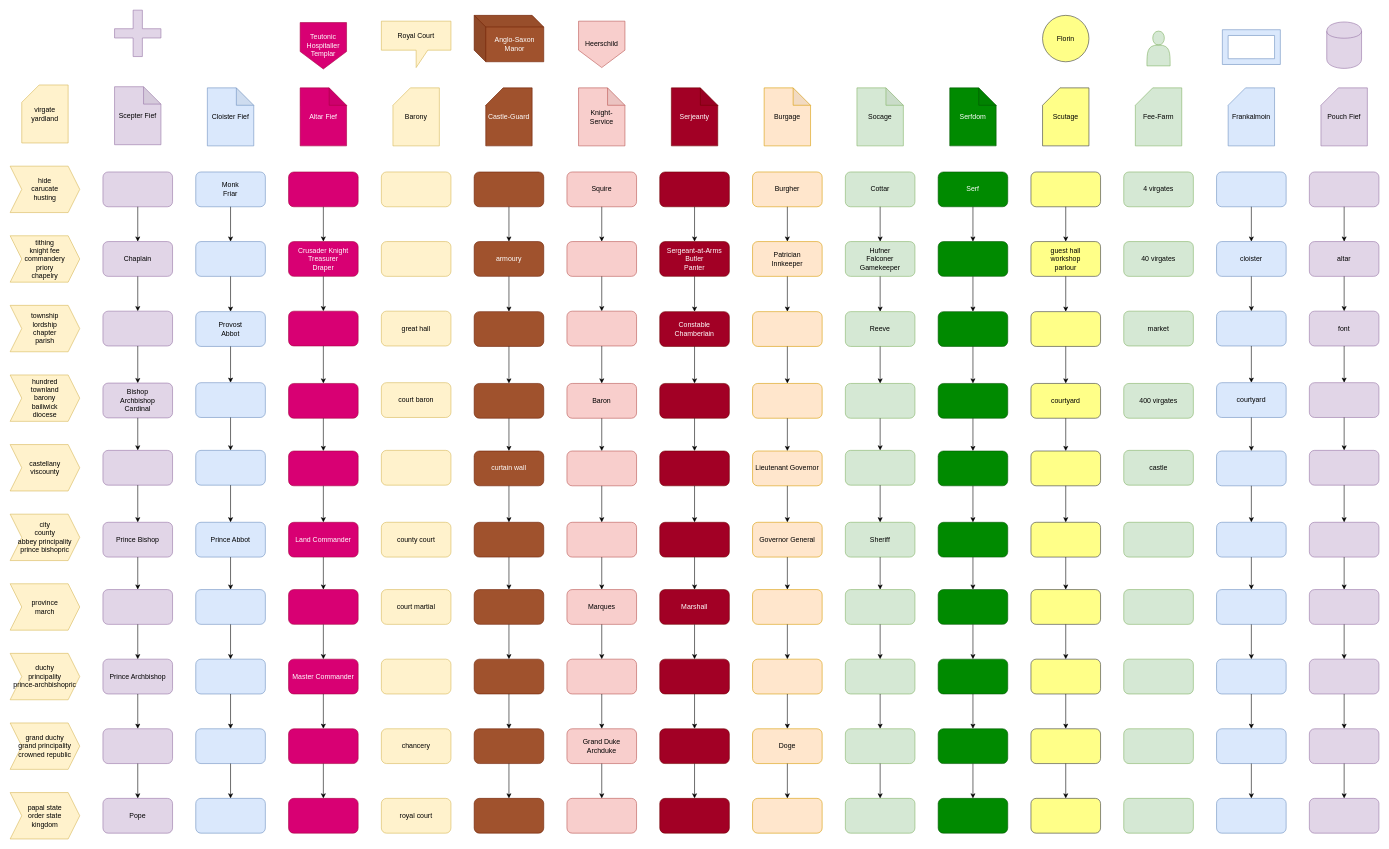
Image size: 1389x849. Some labels were removed from this diagram. Each missing label, with the centre of its shape:
Bailiff: [880,400]
cabinet: [1065,328]
Castellan: [601,468]
cathedra: [1344,399]
catholic: [137,33]
Crusader Sergeant Chaplain Brother: [323,189]
Duke Prince: [601,676]
Earl: [601,539]
Grandmaster: [323,746]
House Commander: [323,328]
keep: [509,400]
King: [601,815]
Knight: [601,258]
Knight Commander: [323,468]
Lord: [601,328]
Lord Mayor: [787,328]
Lord Warden: [787,400]
outer wall: [509,539]
Priest Chancellor: [137,328]
Prince Provost: [230,399]
Prior: [230,258]
vestry: [1251,328]
Vicar: [137,189]
Yeoman Valet: [694,189]
